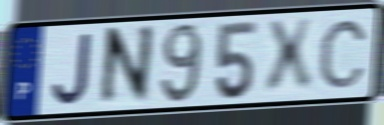5: (213, 17, 259, 102)
9: (158, 21, 206, 106)
C: (318, 18, 370, 91)
J: (50, 31, 94, 107)
N: (96, 22, 157, 111)
X: (263, 16, 315, 100)
